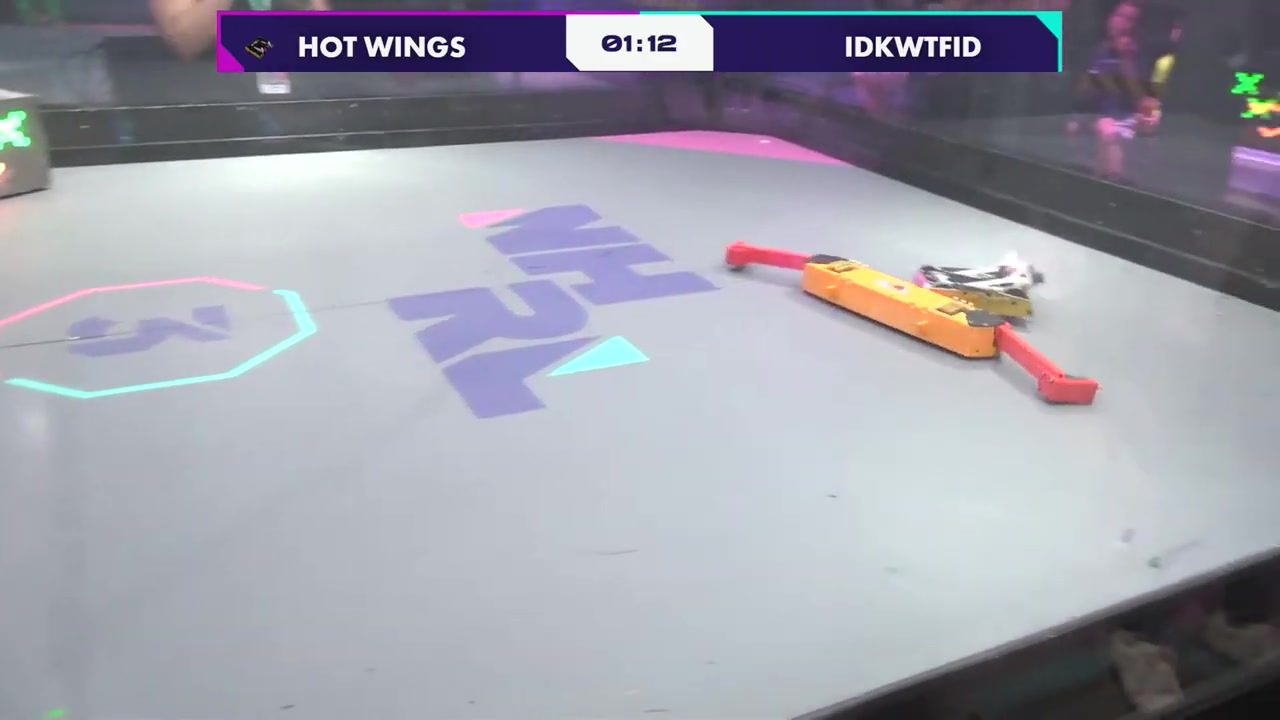combatbot: (725, 240, 1097, 405), (909, 258, 1047, 317)
housebot: (0, 88, 50, 200)
